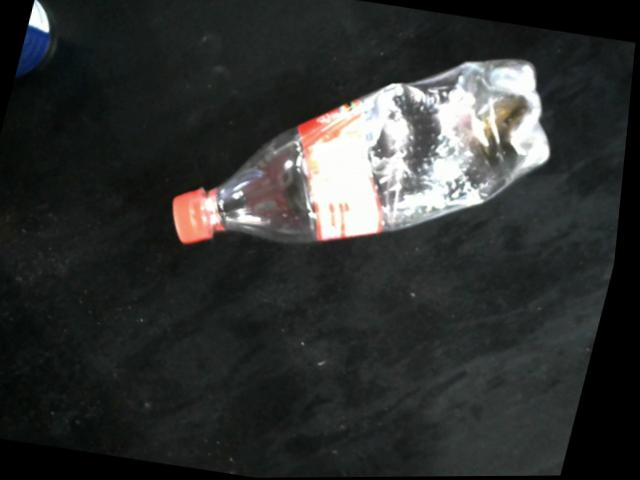bottle: (174, 58, 554, 248)
